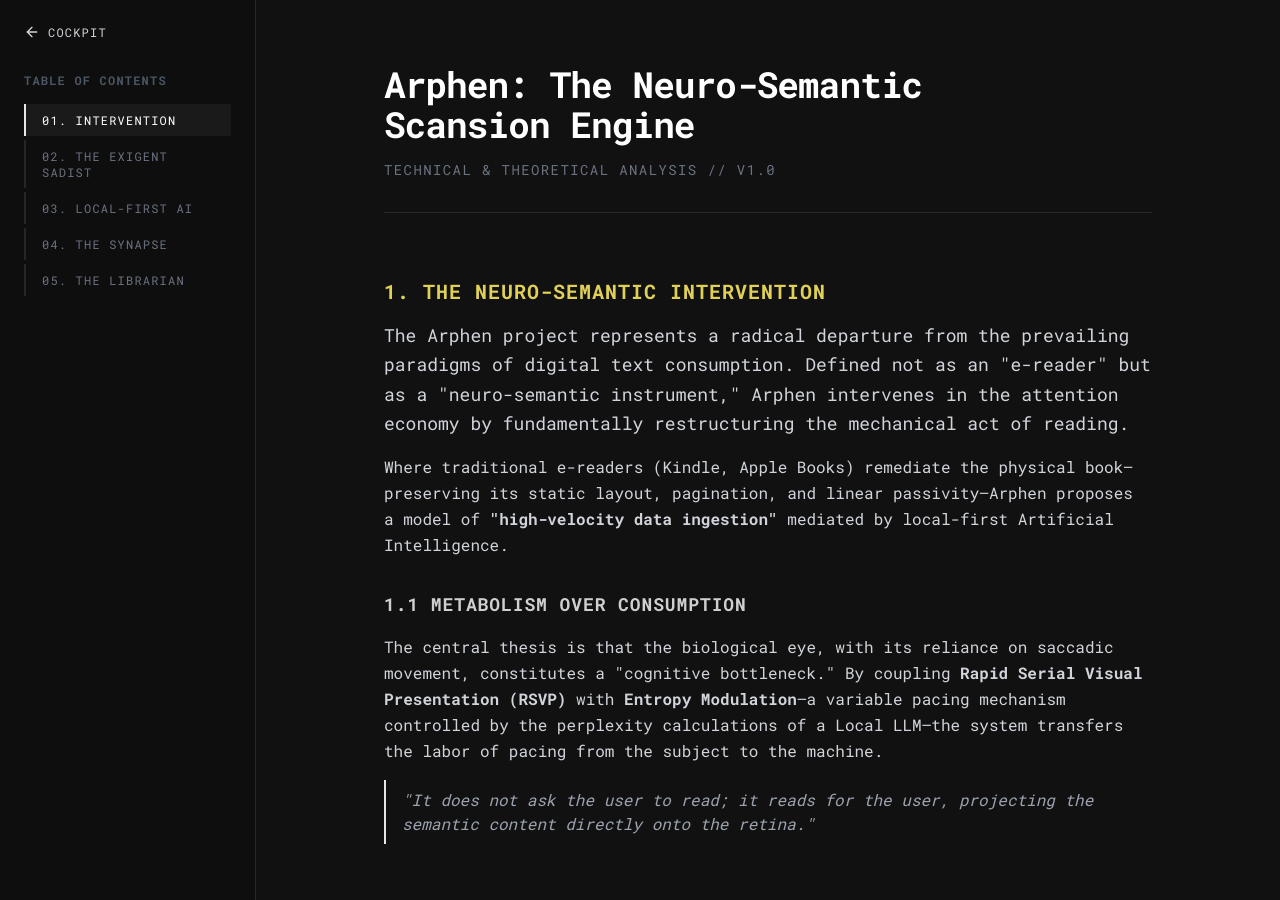
Test: Research › keeps every section discoverable while showing the selected panel
This screenshot has width=1280, height=900.
expect the heading "1. The Neuro-Semantic Intervention" is shown: met, box 384,278 -> 826,304
Click the button "05. The Librarian": coordinates (128, 280) 24,264 -> 231,296
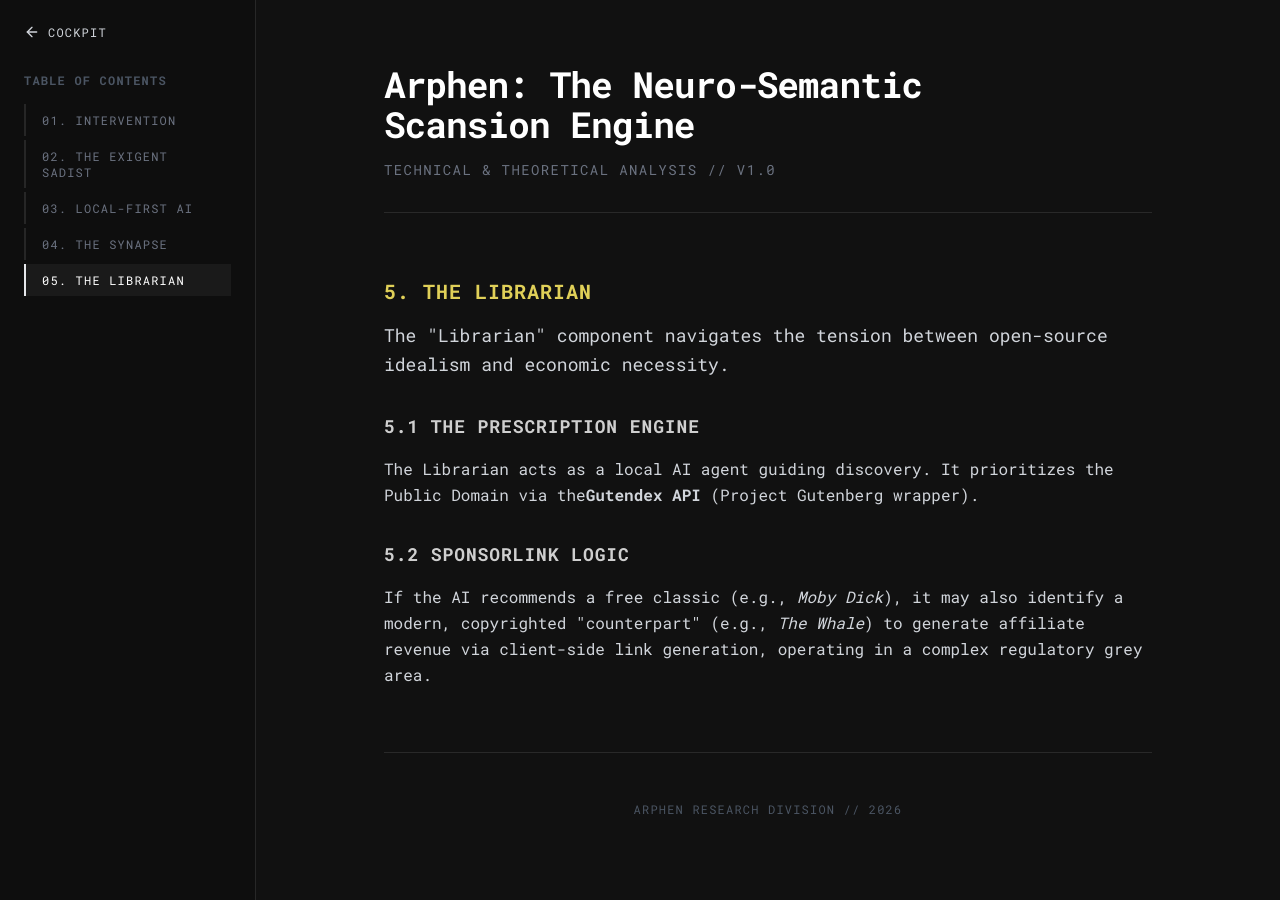
expect the heading "1. The Neuro-Semantic Intervention" is gone: met
expect the heading "5. The Librarian" is shown: met, box 384,278 -> 592,304
